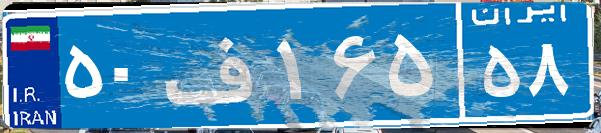0: (110, 28, 158, 105)
1: (273, 28, 330, 110)
5: (385, 28, 445, 110), (57, 26, 110, 107), (475, 38, 525, 113)
6: (330, 28, 385, 110)
8: (525, 38, 570, 115)
ف: (158, 15, 273, 115)
